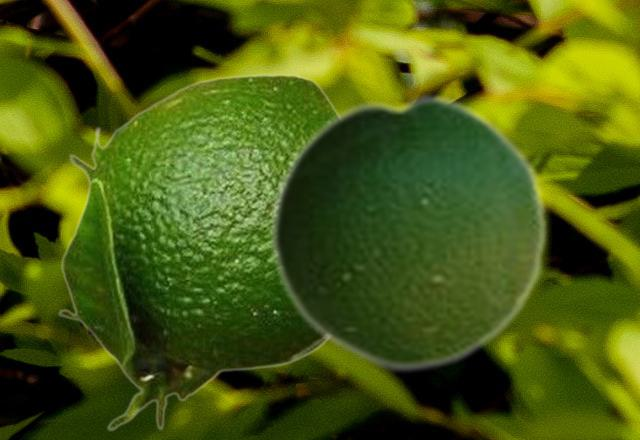dalandan: (56, 73, 337, 431), (268, 90, 548, 374)
